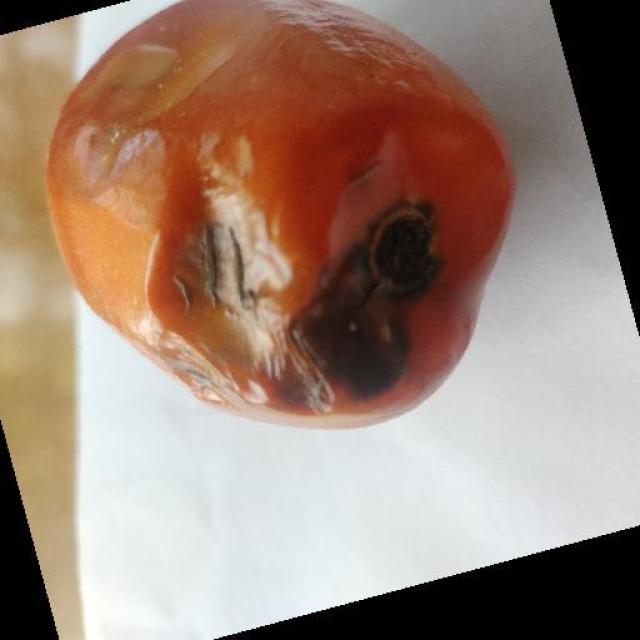Stale_tomato: (65, 16, 484, 442)
